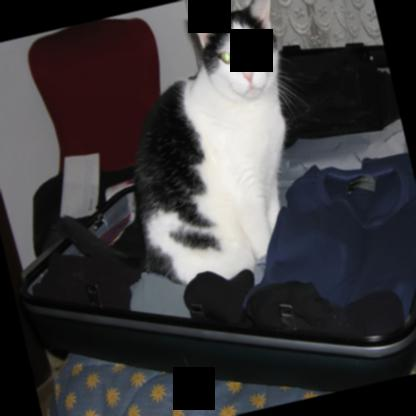suitcase: (19, 42, 416, 391)
